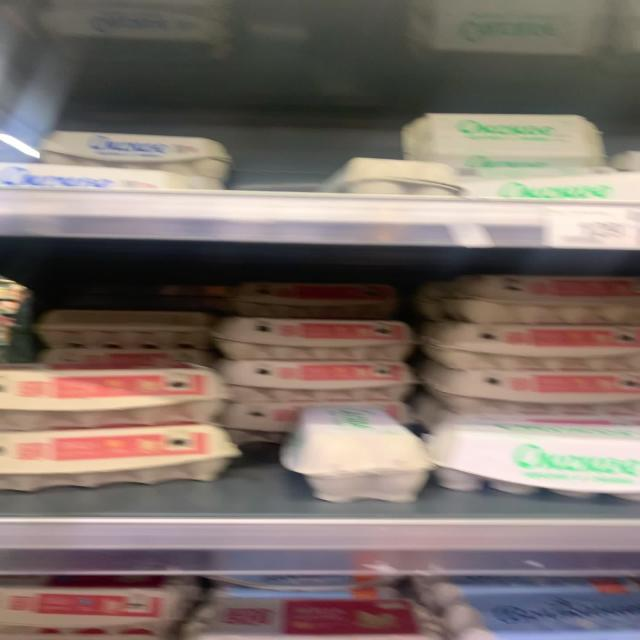egg box: (429, 404, 631, 499), (299, 392, 427, 505), (397, 98, 608, 164), (13, 356, 226, 421), (420, 356, 639, 417), (9, 433, 235, 481), (34, 118, 235, 170), (194, 596, 434, 636), (423, 321, 630, 366), (445, 273, 636, 321), (7, 582, 185, 628), (450, 596, 637, 635), (210, 314, 424, 348), (219, 359, 408, 390), (248, 273, 398, 309)
